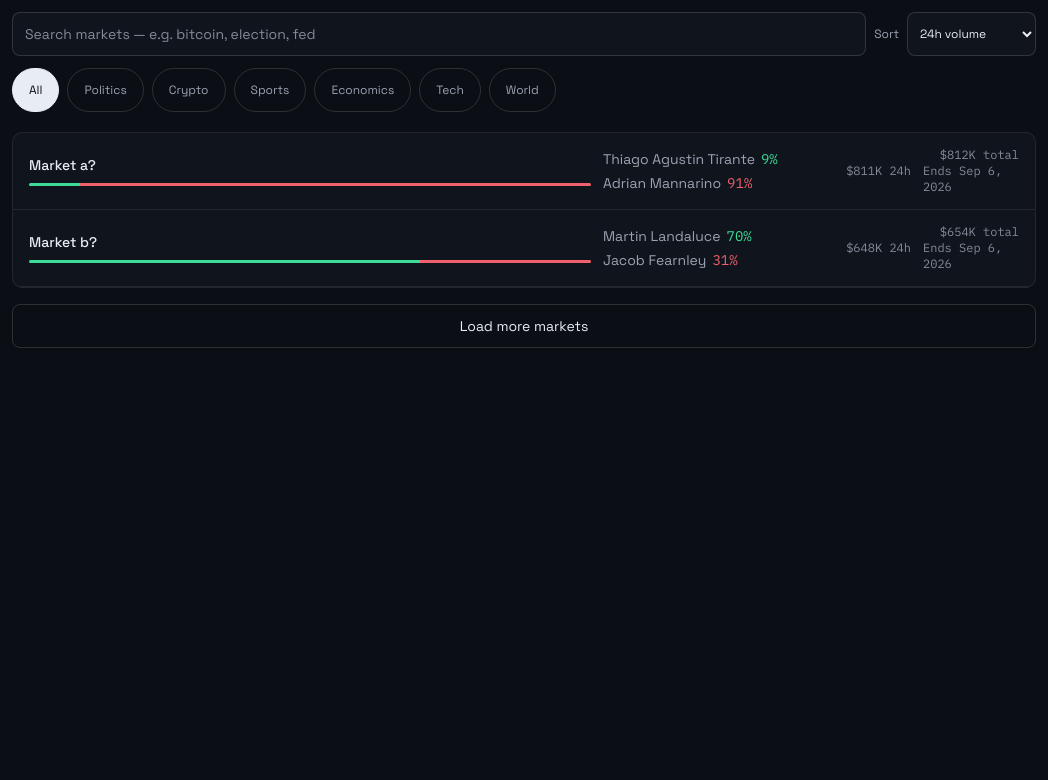
it: the refresh must not rewind the cursor (004 / UX-1) › keeps Load more working after a refresh lands
The image size is (1048, 780).
Expected: the heading "Market a?" is shown, [29, 156, 96, 174]
Click the button "Load more markets": (524, 326) [12, 304, 1036, 348]
Wait 31000 ms
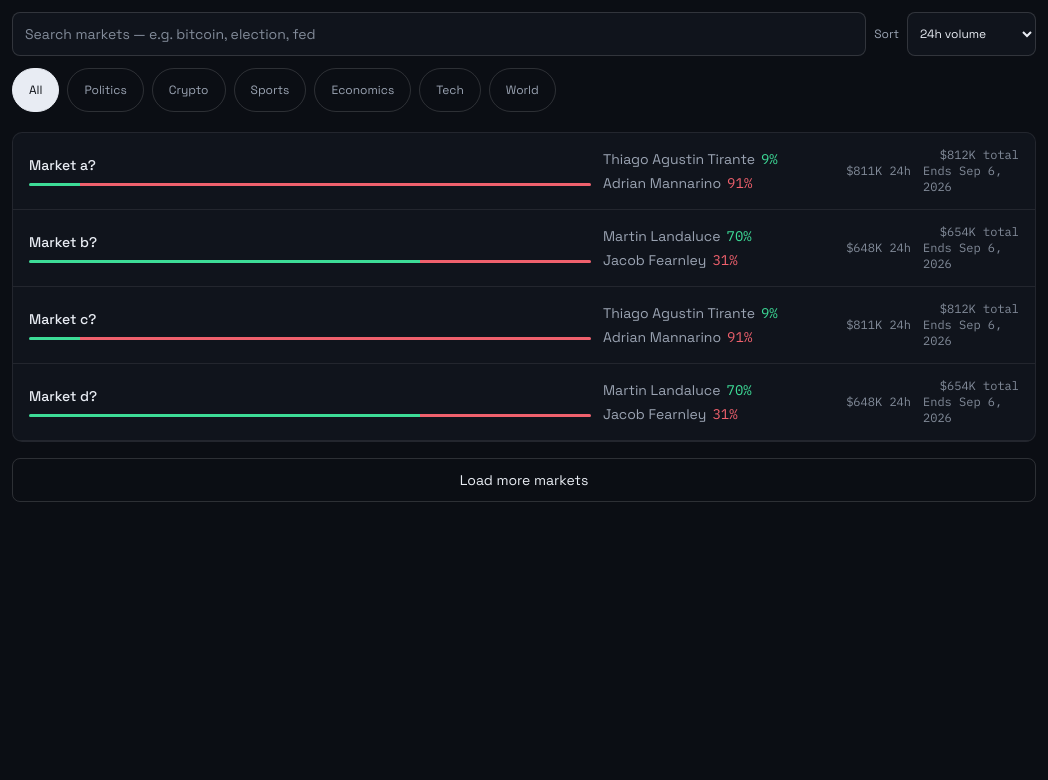
Now the heading "Market c?" is shown, box [29, 310, 96, 328]
Click the button "Load more markets": (524, 480) [12, 458, 1036, 502]
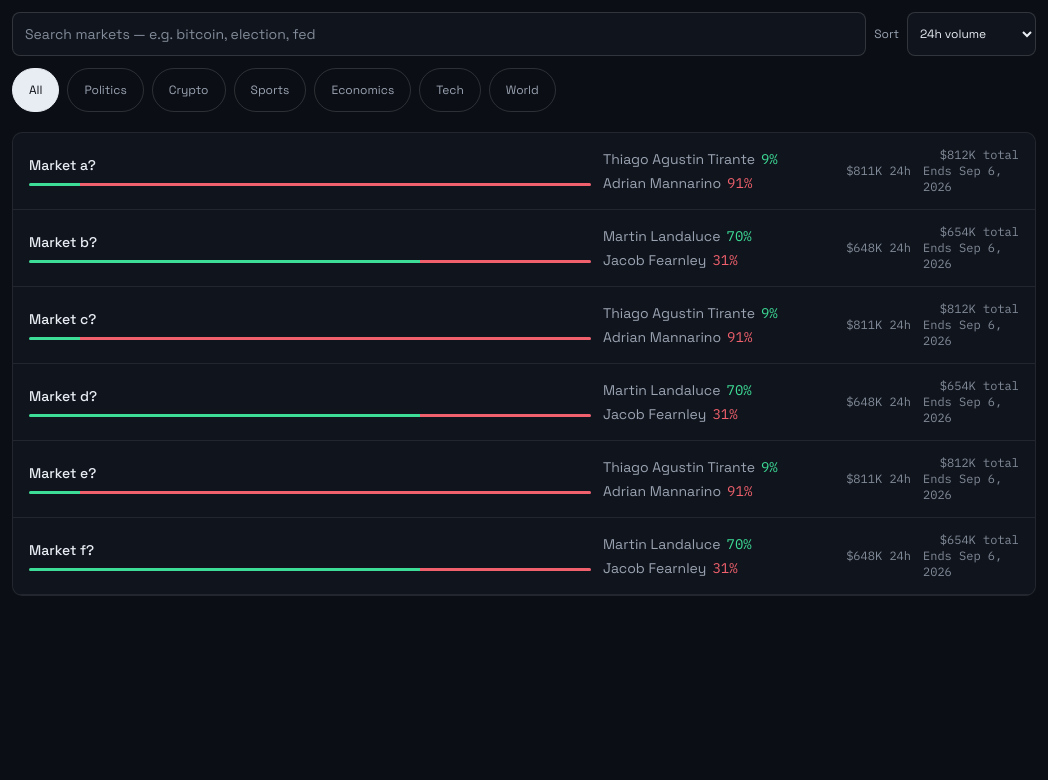
Now the heading "Market e?" is shown, box [29, 464, 96, 482]
